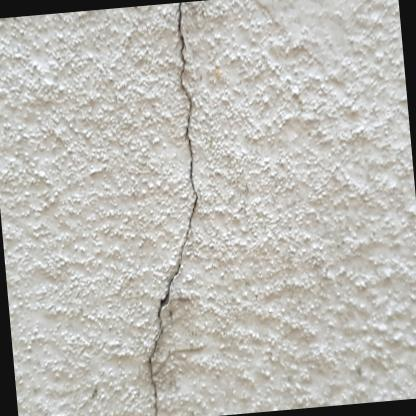crack: (149, 2, 197, 416)
